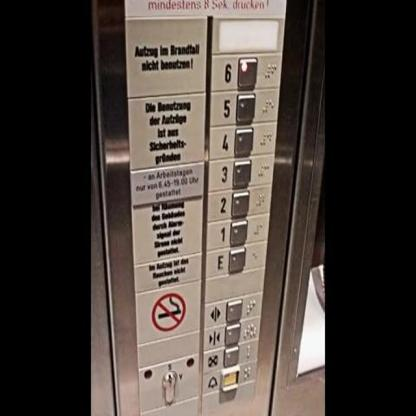1: (216, 212, 257, 249)
2: (216, 185, 258, 221)
3: (217, 152, 257, 190)
4: (217, 122, 257, 160)
5: (217, 86, 257, 126)
6: (217, 53, 260, 93)
E: (216, 242, 257, 278)
alarm: (207, 365, 246, 394)
close: (207, 322, 246, 351)
empty: (218, 19, 277, 51)
fan: (206, 343, 246, 373)
keyhole: (156, 362, 183, 406)
open: (208, 293, 249, 329)
